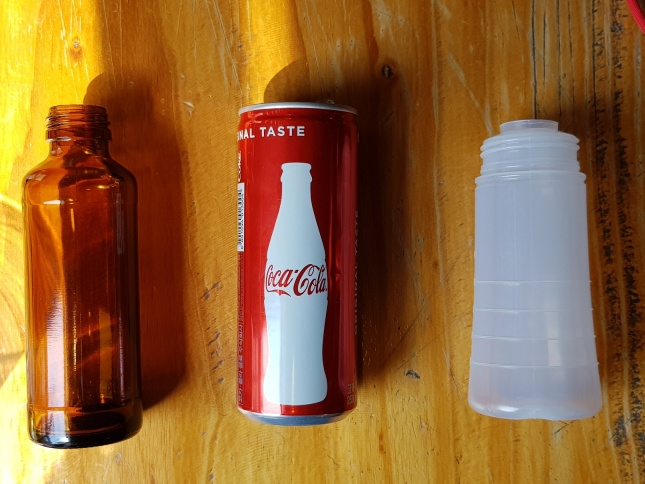Can: (227, 100, 362, 430)
Glass: (15, 100, 147, 451)
Plastic: (461, 108, 606, 431)
